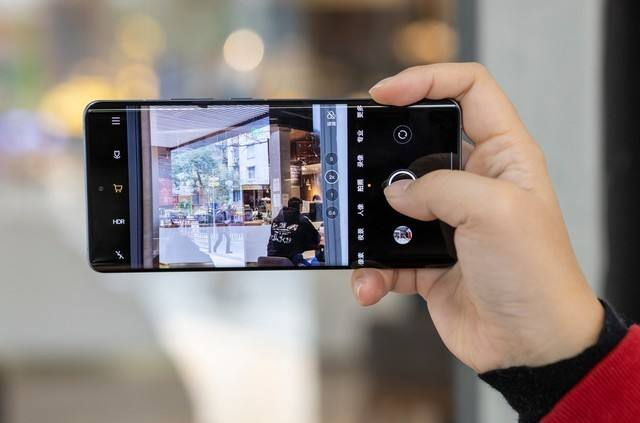taking photos: (73, 56, 605, 372)
